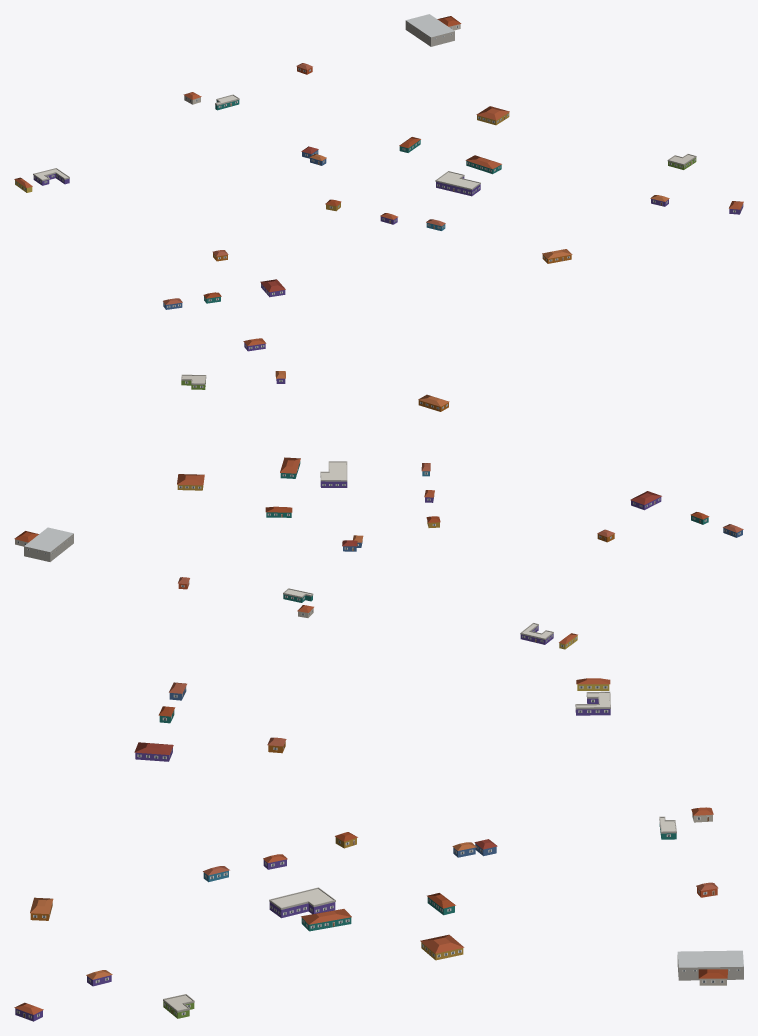
File: msb_sannicolas_19_23.glb
The picture shows the model from 3 angles, top to bottom: view 1: azimuth 30°, elevation 25°; view 2: azimuth 150°, elevation 25°; view 3: azimuth 270°, elevation 25°; orthographic projection. The views are drawn at different scales.
Parts seen in each view (by area): view 1: msb_sannicolas_19_23_lod0; view 2: msb_sannicolas_19_23_lod0; view 3: msb_sannicolas_19_23_lod0.
Boxes of the visible parts, bbox=[...] form: msb_sannicolas_19_23_lod0: bbox=[14, 14, 743, 309]; msb_sannicolas_19_23_lod0: bbox=[14, 338, 743, 649]; msb_sannicolas_19_23_lod0: bbox=[14, 678, 743, 1021].
Size of what is drawn, in the model's own units: 370 by 20.29 by 323.
Materials: 3 (1 with a texture image).
